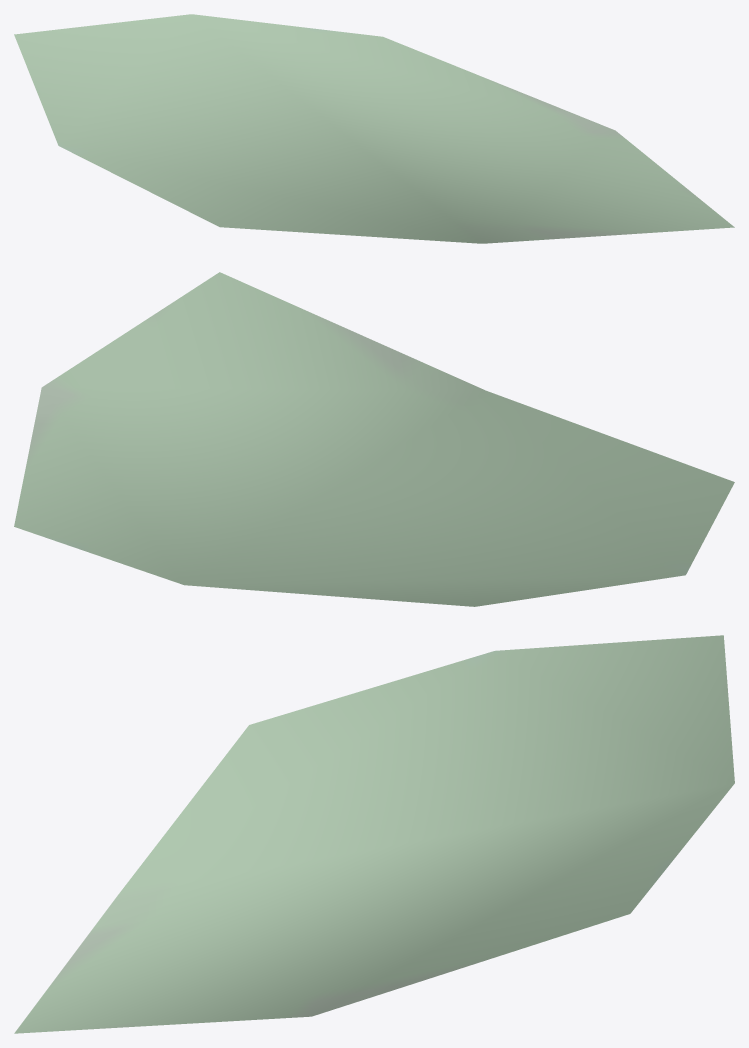
File: TROLLHOLE02_HOLECAP67.fbx
The picture shows the model from 3 angles, top to bottom: view 1: azimuth 30°, elevation 25°; view 2: azimuth 150°, elevation 25°; view 3: azimuth 270°, elevation 25°; orthographic projection. The views are drawn at different scales.
Visible parts, largest first — view 1: TROLLHOLE02_HOLECAP67; view 2: TROLLHOLE02_HOLECAP67; view 3: TROLLHOLE02_HOLECAP67.
Part boxes in pixels (x1,y1,x2,y2): TROLLHOLE02_HOLECAP67: (14, 14, 734, 243); TROLLHOLE02_HOLECAP67: (14, 272, 734, 606); TROLLHOLE02_HOLECAP67: (14, 635, 734, 1033).
Bounding box in the file's own units: 27009 × 5130 × 27139.
1 material, 1 textured.
